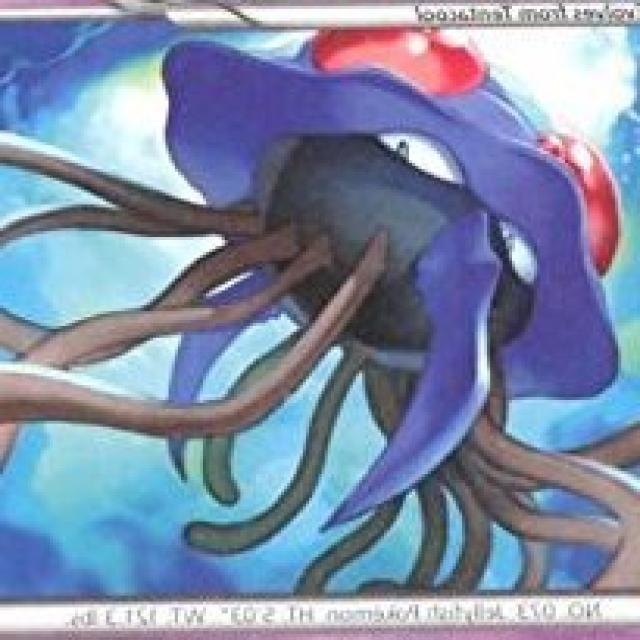Tentacruel: (160, 25, 620, 497)
